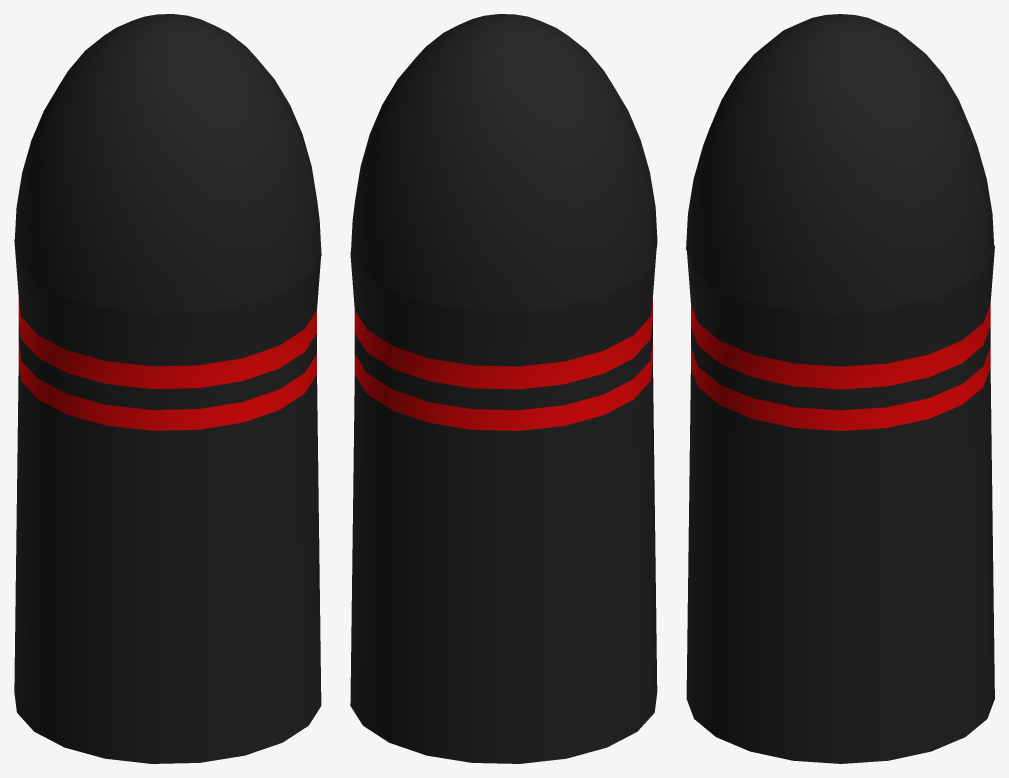
Rendered from Bolard_Extra.obj.
The picture shows the model from 3 angles, left to right: view 1: azimuth 30°, elevation 25°; view 2: azimuth 150°, elevation 25°; view 3: azimuth 270°, elevation 25°; orthographic projection.
Visible parts, largest first — view 1: pSphere2; view 2: pSphere2; view 3: pSphere2.
Boxes of the visible parts, x1,y1,x2,y2 form: pSphere2: [14, 14, 321, 763]; pSphere2: [350, 14, 657, 763]; pSphere2: [686, 14, 994, 763].
Size of the model in its own units: 0.3331 by 0.8053 by 0.3337.
